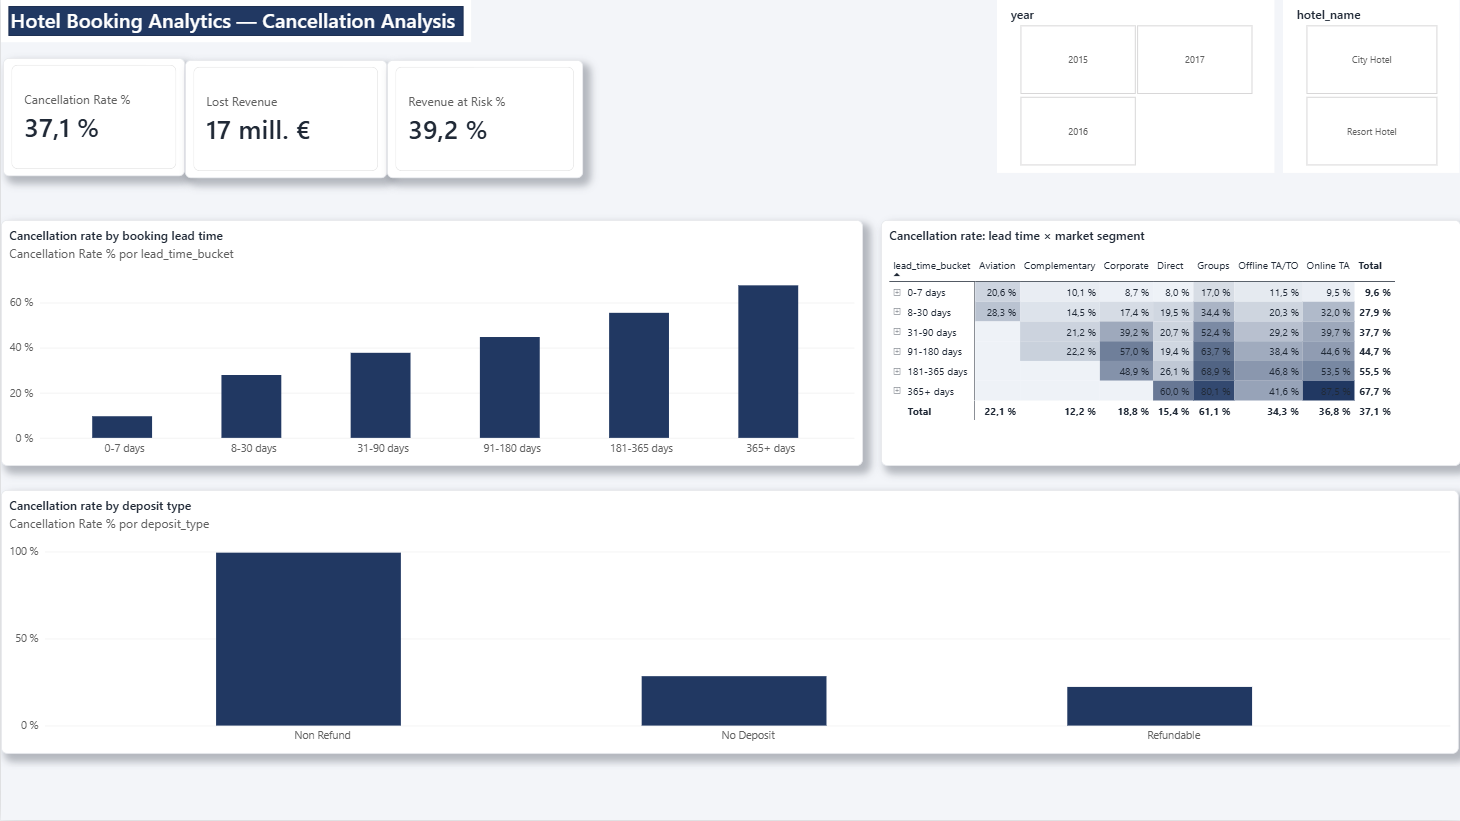

Layout of this report page (visuals, bound fields, positions):
{"tool":"powerbi","page":{"name":"Cancellation Analysis","canvas":[1920,1080],"ordinal":1},"visuals":[{"type":"slicer","fields":{"Values":["dim_date.year"]},"box":[1311.4,0,365.2,227.4],"z":0},{"type":"slicer","fields":{"Values":["dim_hotel.hotel_name"]},"box":[1688,0,232,227.4],"z":1000},{"type":"shape","box":[0,0,618.4,55.3],"z":2000},{"type":"textbox","box":[2.6,0,618,150],"z":3000},{"type":"cardVisual","fields":{"Data":["_Measures.Cancellation Rate %"]},"box":[2.6,76.3,239.5,155.3],"z":4000},{"type":"cardVisual","fields":{"Data":["_Measures.Lost Revenue"]},"box":[242.1,78.9,265.8,155.3],"z":5000},{"type":"cardVisual","fields":{"Data":["_Measures.Revenue at Risk %"]},"box":[507.9,78.9,257.9,155.3],"z":6000},{"type":"pivotTable","fields":{"Columns":["dim_channel.market_segment"],"Rows":["fact_bookings.lead_time_bucket","dim_hotel.hotel_name"],"Values":["_Measures.Cancellation Rate %"]},"box":[1157.9,289.5,763.2,323.7],"z":7000},{"type":"clusteredColumnChart","fields":{"Category":["fact_bookings.deposit_type"],"Y":["_Measures.Cancellation Rate %"]},"box":[0,646,1918,347],"z":8000},{"type":"clusteredColumnChart","fields":{"Category":["fact_bookings.lead_time_bucket"],"Y":["_Measures.Cancellation Rate %"]},"box":[0,289.5,1134.2,323.7],"z":8001}]}

Visuals, with their boxes in screenshot pixels (x1, y1, x2, y2), scaled from the page's 1920x1080 canvas onto the 1460x821 screenshot:
slicer - dim_date.year: (997,0,1275,173)
slicer - dim_hotel.hotel_name: (1284,0,1459,173)
shape: (0,0,470,42)
textbox: (2,0,472,114)
cardVisual - _Measures.Cancellation Rate %: (2,58,184,176)
cardVisual - _Measures.Lost Revenue: (184,60,386,178)
cardVisual - _Measures.Revenue at Risk %: (386,60,582,178)
pivotTable - dim_channel.market_segment x fact_bookings.lead_time_bucket: (880,220,1459,466)
clusteredColumnChart - fact_bookings.deposit_type x _Measures.Cancellation Rate %: (0,491,1458,755)
clusteredColumnChart - fact_bookings.lead_time_bucket x _Measures.Cancellation Rate %: (0,220,862,466)
